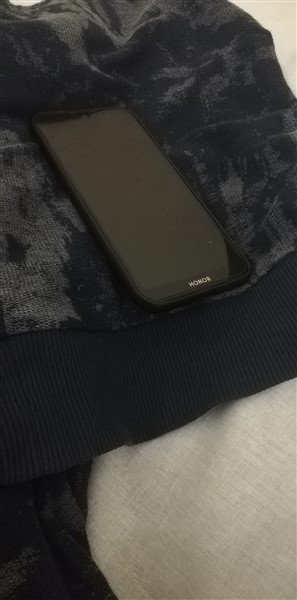telefon: (23, 97, 254, 315)
